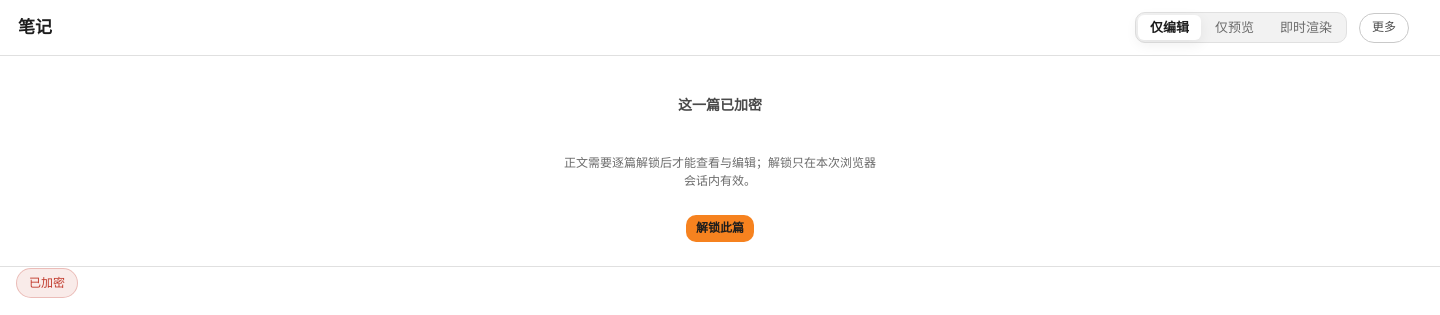
Test: 「更多」菜单里的入口 › 锁定态置灰，原因与导出 / 分享同一口径
Click the button "更多". click: (1392, 28)
box: [1359,12,1424,42]
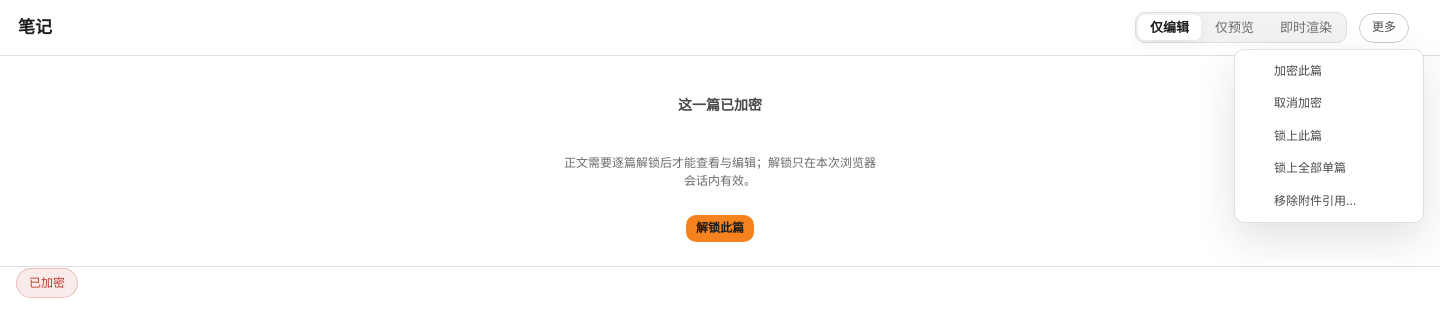
Check: the menu item "移除附件引用…" is disabled, box [1240,185,1418,218]
